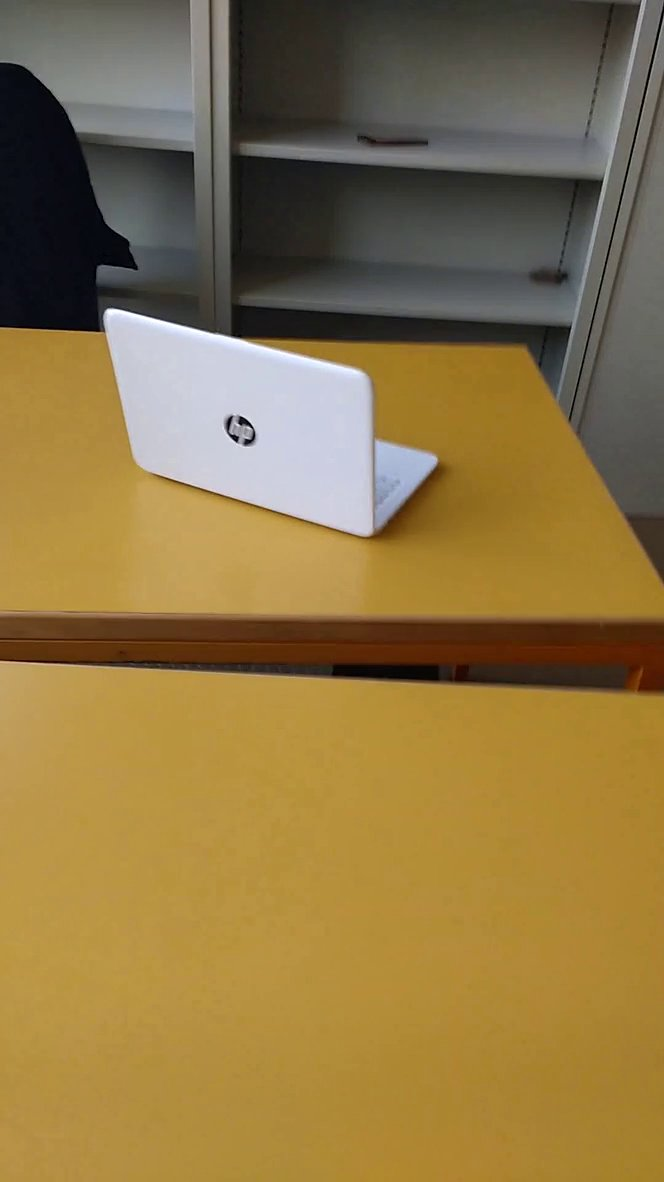laptop: (101, 294, 451, 551)
